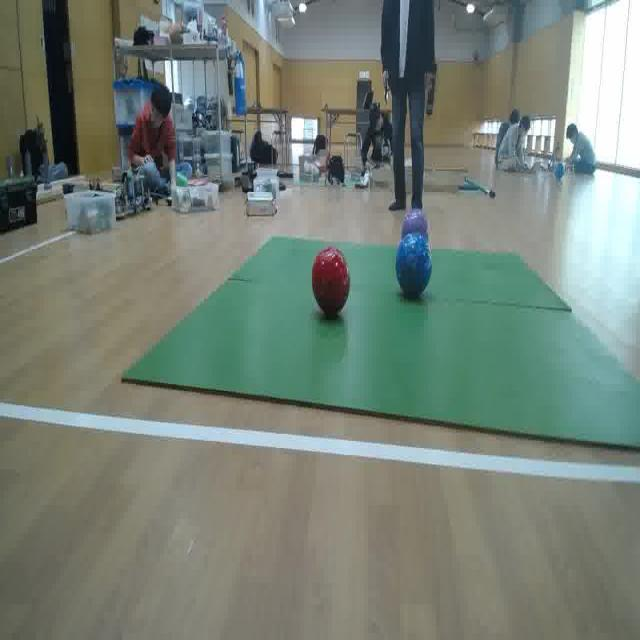blue_ball: (395, 234, 433, 297)
purple_ball: (402, 210, 428, 245)
red_ball: (312, 247, 350, 316)
